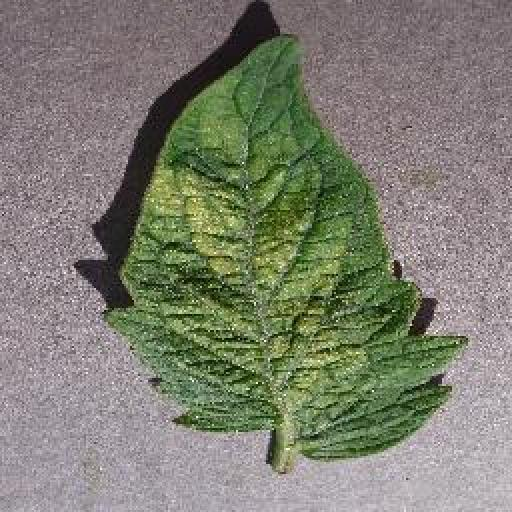Spider Mites: (103, 33, 470, 463)
